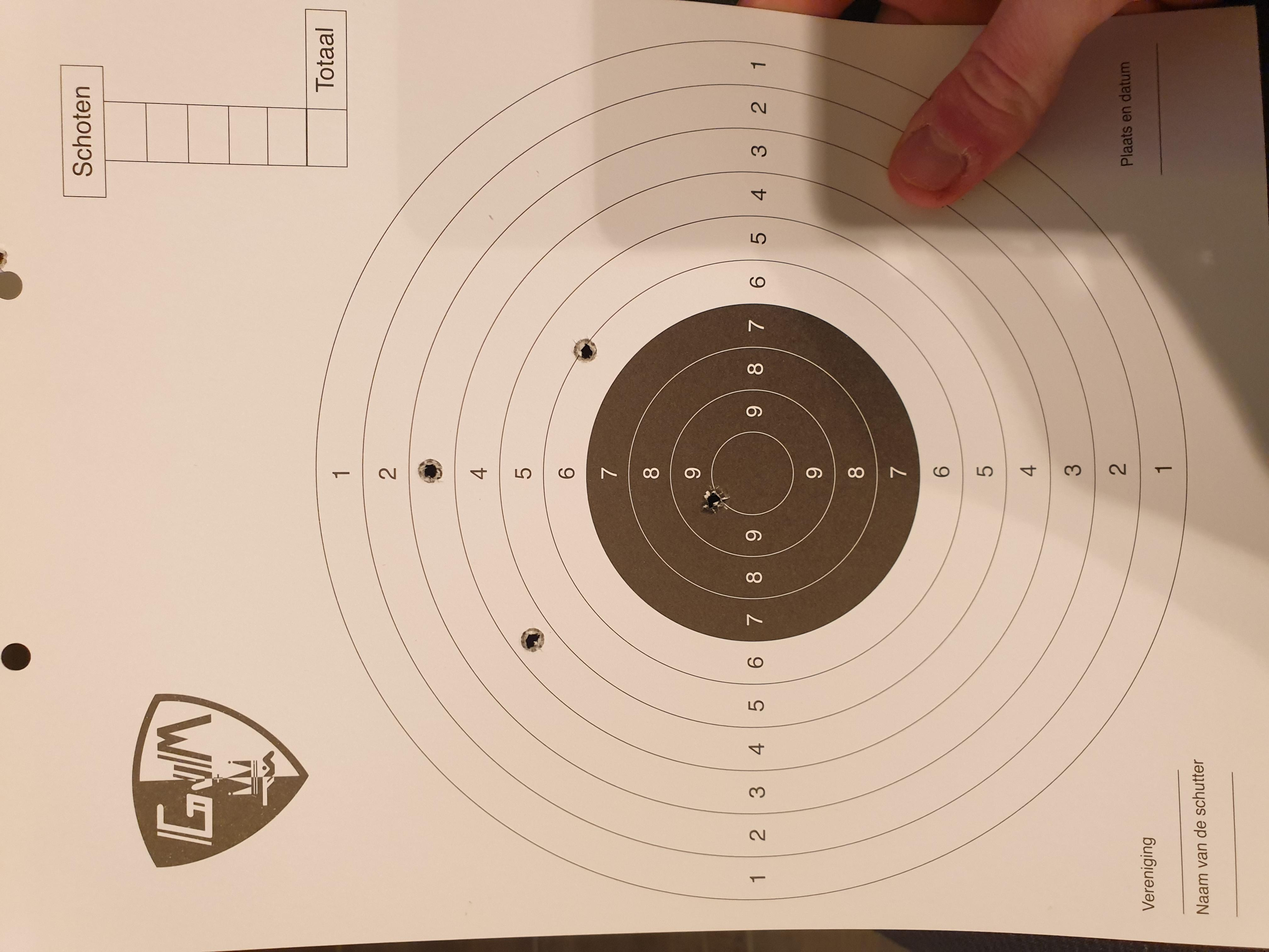hole: (582, 526, 624, 548), (395, 389, 434, 411), (625, 310, 660, 334), (783, 427, 821, 449), (914, 0, 933, 8)
